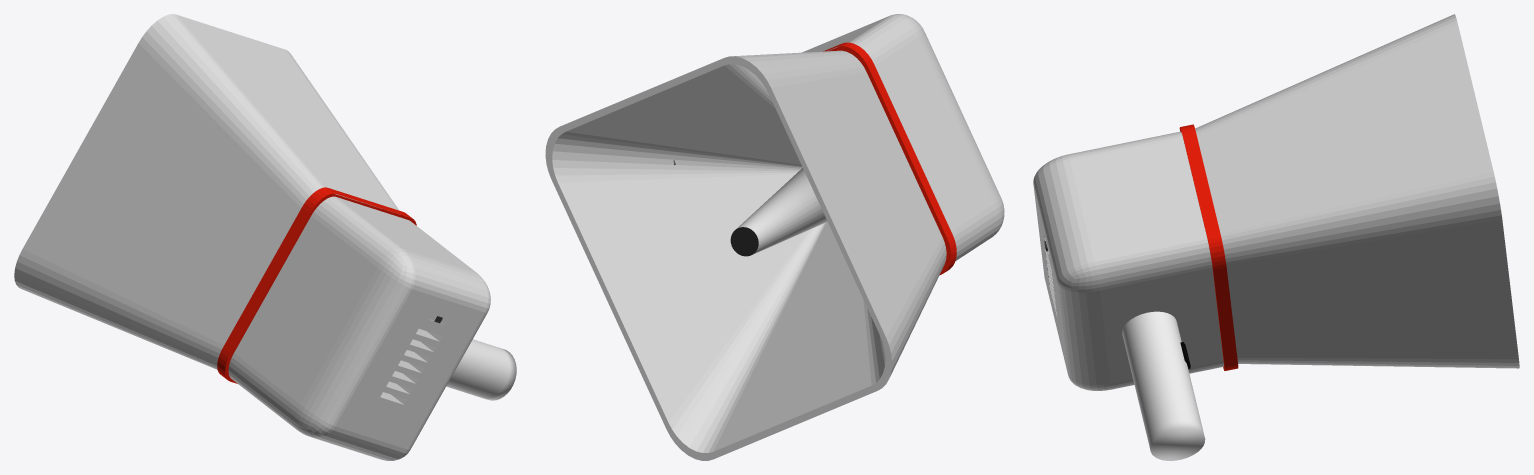
File: toa.fbx
3 views of the same model, side by side, from view 1: azimuth 30°, elevation 25°; view 2: azimuth 150°, elevation 25°; view 3: azimuth 270°, elevation 25° (orthographic). The views are drawn at different scales.
Parts seen in each view (by area): view 1: toa, list, gagang; view 2: toa, telak, list, telak.001; view 3: toa, gagang, list.
Boxes of the visible parts, x1=… form: toa: x1=14, y1=14, x2=490, y2=460; list: x1=217, y1=187, x2=416, y2=383; gagang: x1=446, y1=339, x2=516, y2=400; toa: x1=545, y1=14, x2=1004, y2=460; telak: x1=736, y1=168, x2=827, y2=254; list: x1=823, y1=42, x2=956, y2=275; telak.001: x1=730, y1=227, x2=758, y2=256; toa: x1=1033, y1=14, x2=1519, y2=390; gagang: x1=1122, y1=311, x2=1205, y2=460; list: x1=1179, y1=124, x2=1238, y2=370.
Size of the model in its own units: 382 by 343 by 434.
